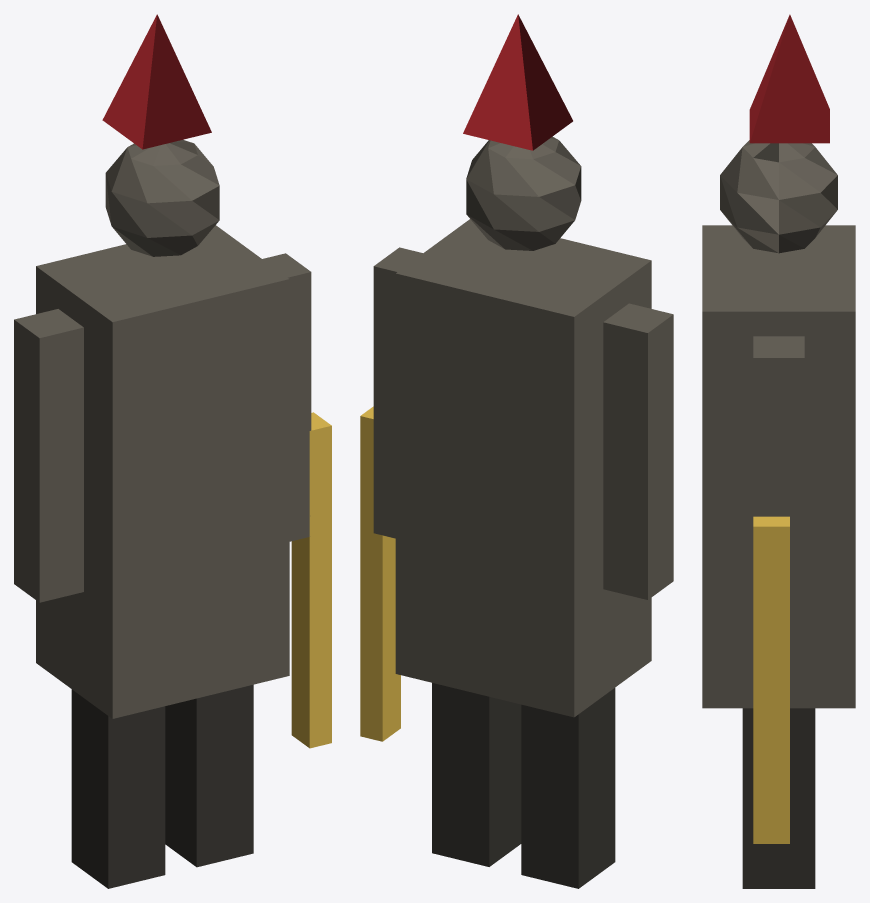
The model's file is knight.obj.
3 renders of one model, left to right at view 1: azimuth 30°, elevation 25°; view 2: azimuth 150°, elevation 25°; view 3: azimuth 270°, elevation 25°, orthographic.
Parts seen in each view (by area): view 1: knight_torso, knight_arm_l, knight_leg_l, knight_leg_r, knight_sword, knight_head, knight_plume, knight_arm_r; view 2: knight_torso, knight_arm_l, knight_leg_l, knight_leg_r, knight_head, knight_sword, knight_plume, knight_arm_r; view 3: knight_torso, knight_sword, knight_arm_r, knight_head, knight_leg_r, knight_plume.
Boxes of the visible parts, x1,y1,x2,y2 form: knight_torso: (36, 225, 289, 718); knight_arm_l: (14, 309, 83, 602); knight_leg_l: (71, 689, 165, 888); knight_leg_r: (165, 684, 253, 867); knight_sword: (291, 412, 331, 748); knight_head: (105, 140, 219, 256); knight_plume: (102, 14, 211, 149); knight_arm_r: (262, 253, 311, 541); knight_torso: (395, 219, 651, 717); knight_arm_l: (603, 303, 673, 599); knight_leg_l: (521, 688, 615, 888); knight_leg_r: (432, 683, 521, 866); knight_head: (466, 136, 581, 250); knight_sword: (360, 406, 400, 741); knight_plume: (463, 14, 572, 150); knight_arm_r: (373, 247, 422, 538); knight_torso: (702, 225, 855, 708); knight_sword: (753, 516, 789, 843); knight_arm_r: (753, 336, 804, 622); knight_head: (720, 140, 837, 253); knight_leg_r: (742, 708, 815, 888); knight_plume: (749, 14, 829, 143).
Bounding box in the file's own units: 0.925 × 2.54 × 0.42.
